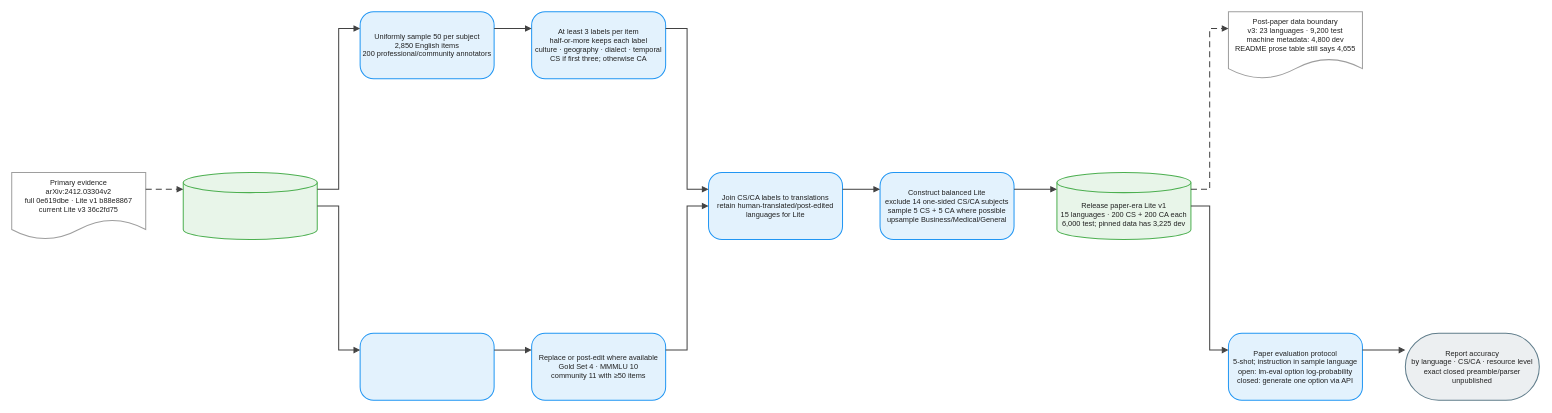
Image size: 1552x413. Some labels were removed from this diagram. The centre of each missing label's shape, as x and y in pixels:
"Start from English MMLU 57 subjects · 14,042 test questions 285 dev examples" goes at (x=249, y=206).
"Translate all test items to 41 languages Google Translate for every language" goes at (x=426, y=367).
